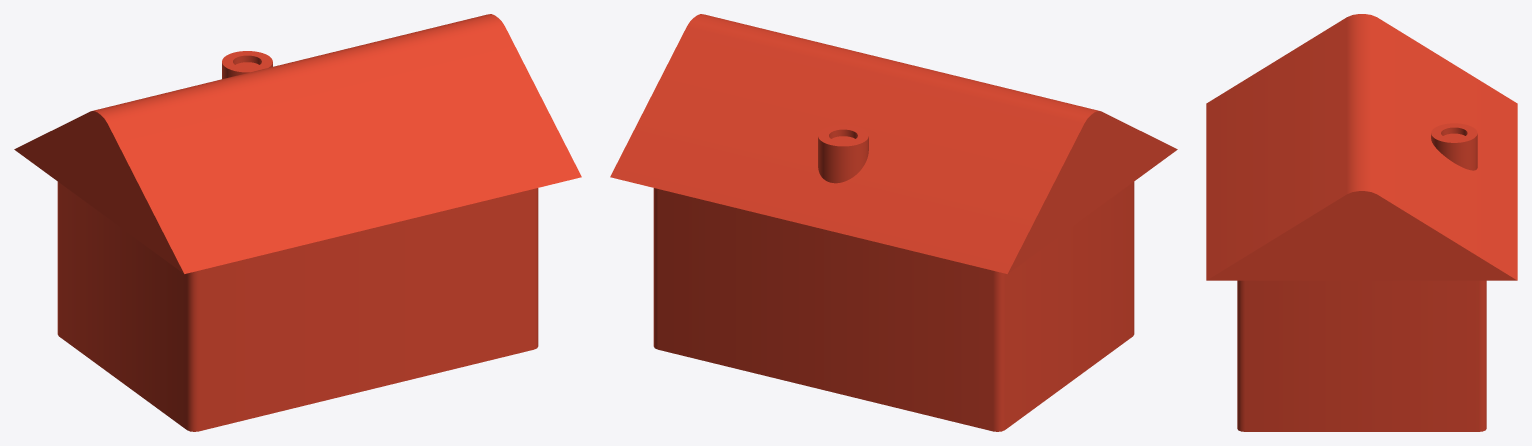
File: hotel.fbx
The picture shows the model from 3 angles, left to right: view 1: azimuth 30°, elevation 25°; view 2: azimuth 150°, elevation 25°; view 3: azimuth 270°, elevation 25°; orthographic projection. The views are drawn at different scales.
Parts seen in each view (by area): view 1: ExportHotel; view 2: ExportHotel; view 3: ExportHotel.
Part boxes in pixels (bbox=[...]): ExportHotel: bbox=[14, 14, 581, 431]; ExportHotel: bbox=[610, 14, 1177, 431]; ExportHotel: bbox=[1206, 14, 1517, 431].
Bounding box in the file's own units: 173 × 115 × 129.
